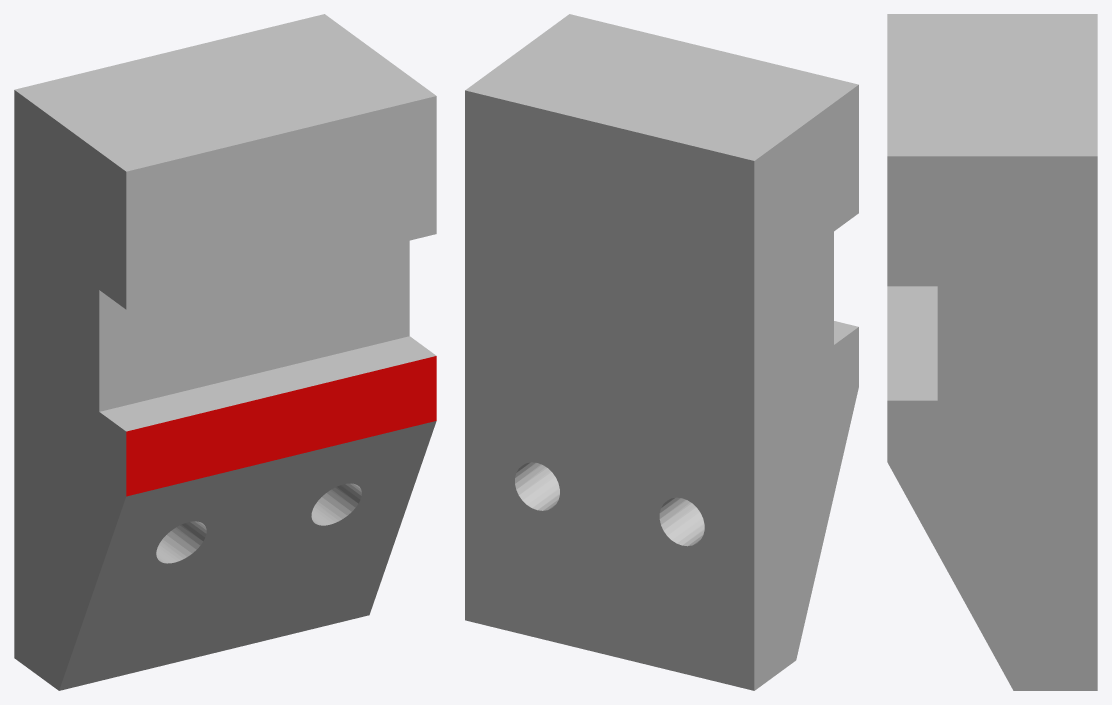
File: TESTE_M5_SF_stp_5.obj
The picture shows the model from 3 angles, left to right: view 1: azimuth 30°, elevation 25°; view 2: azimuth 150°, elevation 25°; view 3: azimuth 270°, elevation 25°; orthographic projection. The views are drawn at different scales.
Visible parts, largest first — view 1: Object1; view 2: Object1; view 3: Object1.
Boxes of the visible parts, left/top/right/bottom form: Object1: left=14, top=14, right=436, bottom=690; Object1: left=465, top=14, right=858, bottom=690; Object1: left=887, top=14, right=1097, bottom=690.
Bounding box in the file's own units: 50.8 × 88.9 × 31.75.
